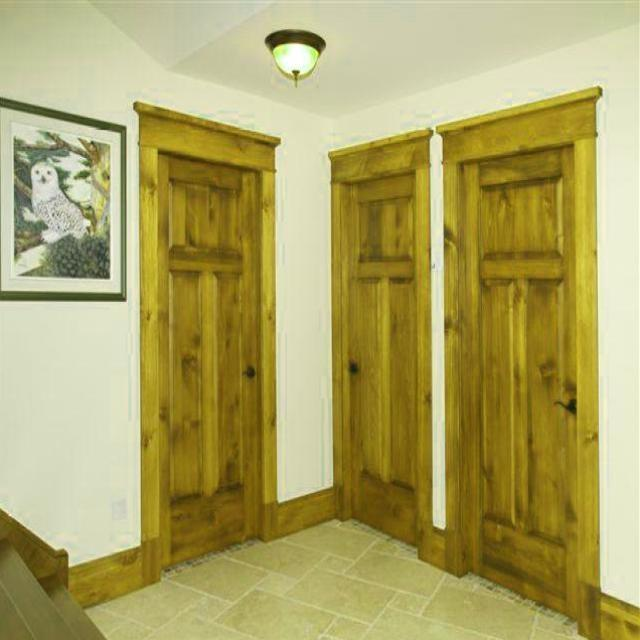door: (436, 80, 608, 618), (124, 89, 282, 576), (331, 102, 441, 555)
